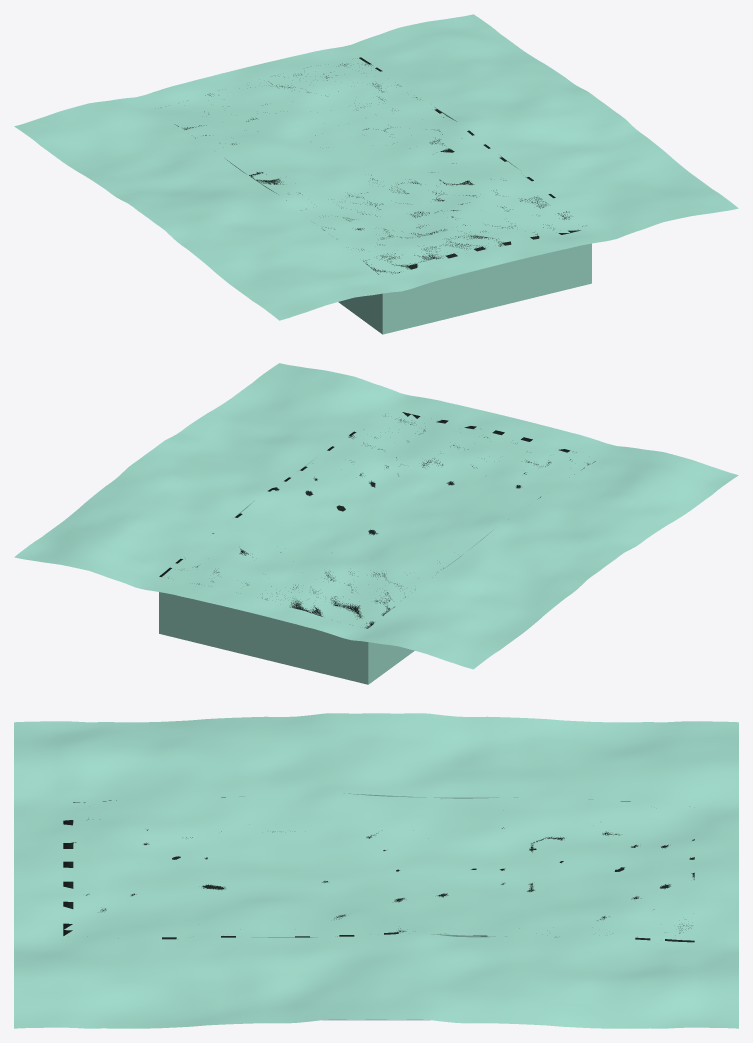
Rendered from denizasset2.fbx.
3 renders of one model, top to bottom at view 1: azimuth 30°, elevation 25°; view 2: azimuth 150°, elevation 25°; view 3: azimuth 270°, elevation 25°, orthographic. The views are drawn at different scales.
Parts seen in each view (by area): view 1: OCEAN PLANE, OCEAN CUBE; view 2: OCEAN PLANE, OCEAN CUBE; view 3: OCEAN PLANE, OCEAN CUBE.
Part boxes in pixels (x1=…): OCEAN PLANE: x1=14, y1=14, x2=738, y2=320; OCEAN CUBE: x1=175, y1=57, x2=591, y2=334; OCEAN PLANE: x1=14, y1=363, x2=738, y2=669; OCEAN CUBE: x1=159, y1=412, x2=595, y2=684; OCEAN PLANE: x1=14, y1=713, x2=738, y2=1028; OCEAN CUBE: x1=63, y1=793, x2=694, y2=1020.
Bounding box in the file's own units: 900 × 120 × 900.
